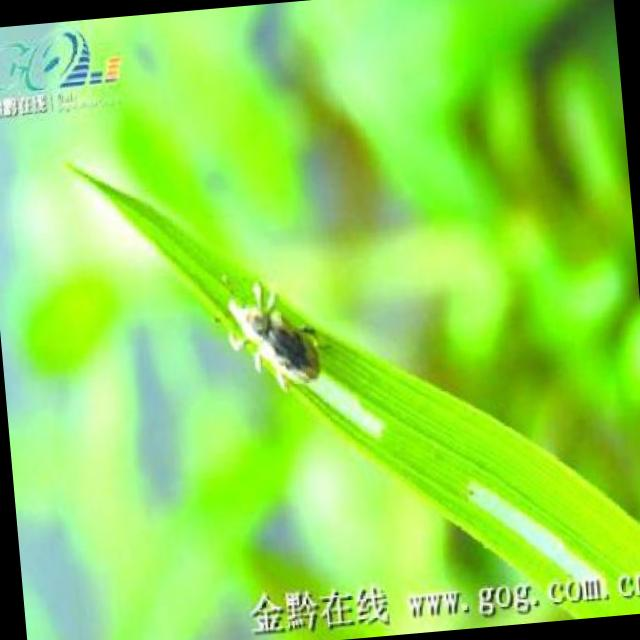rice-bug: (224, 274, 326, 389)
